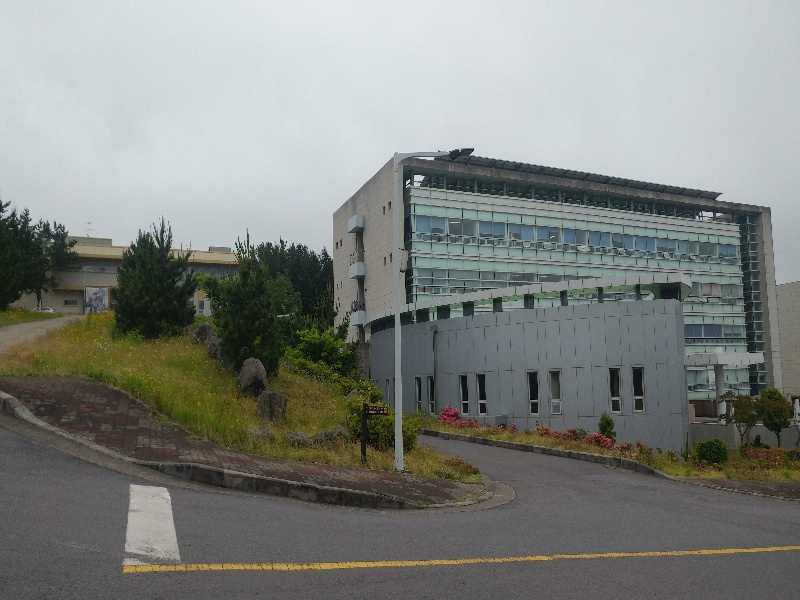College of Marine Science: (314, 148, 782, 444), (402, 167, 774, 416)
Military Education Unit: (46, 237, 237, 309)
